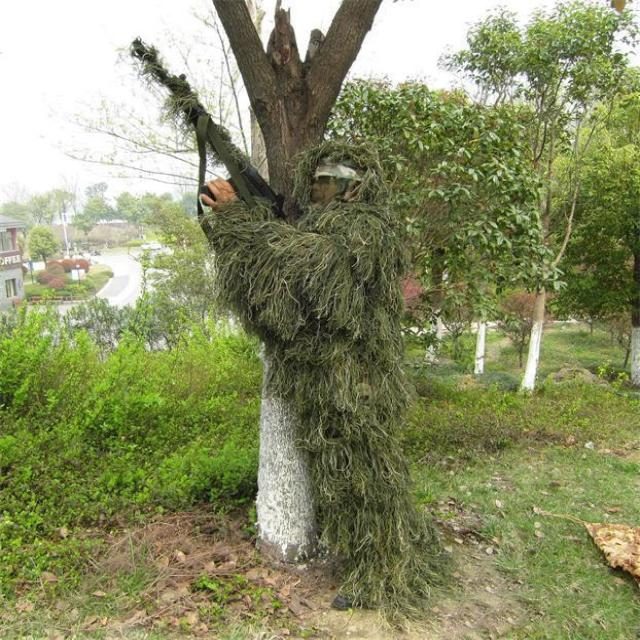Camouflage: (130, 35, 406, 604)
